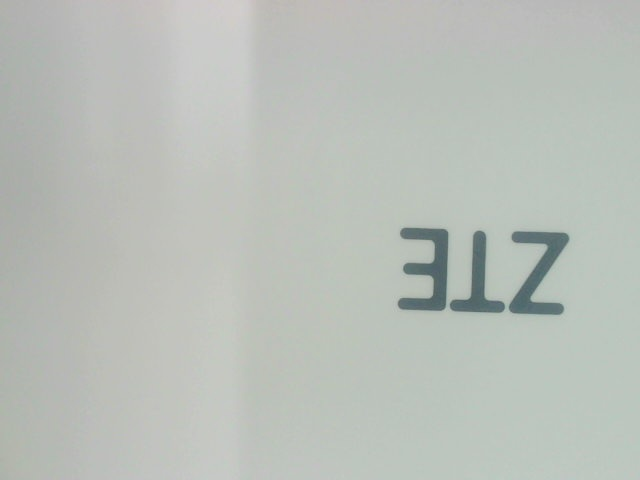AN_ZTE: (381, 215, 581, 322)
